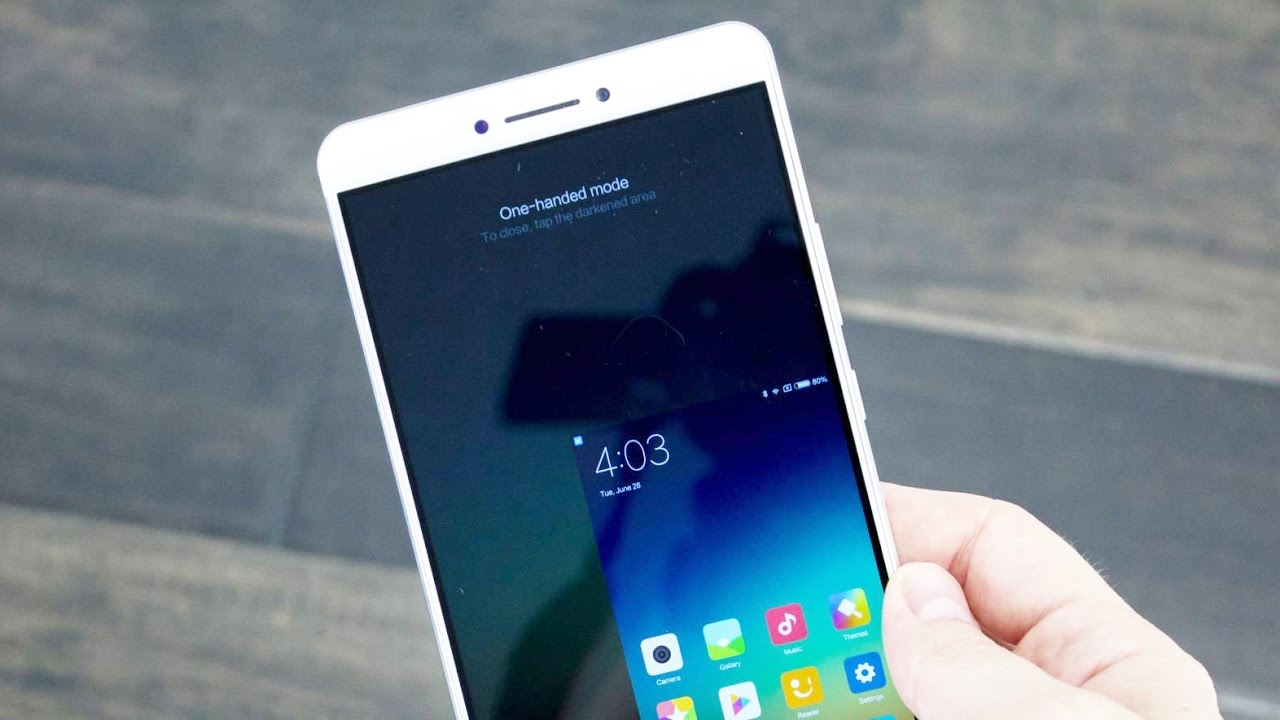smartphone: (316, 20, 919, 720)
